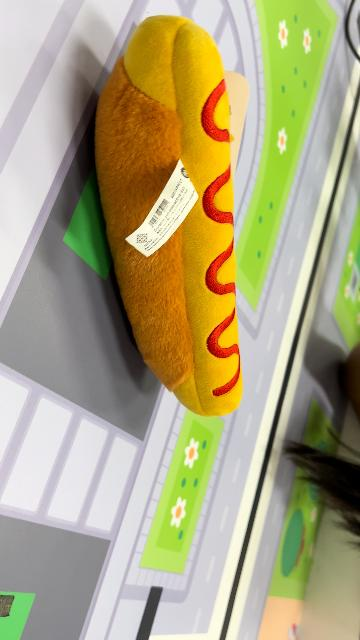hotdog: (93, 14, 246, 418)
